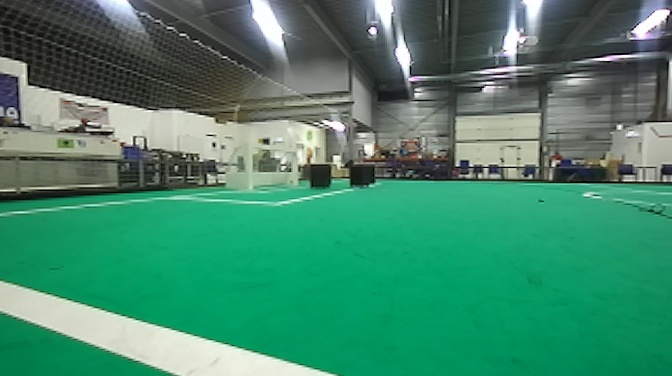goalpost: (241, 138, 254, 191), (288, 149, 301, 191)
